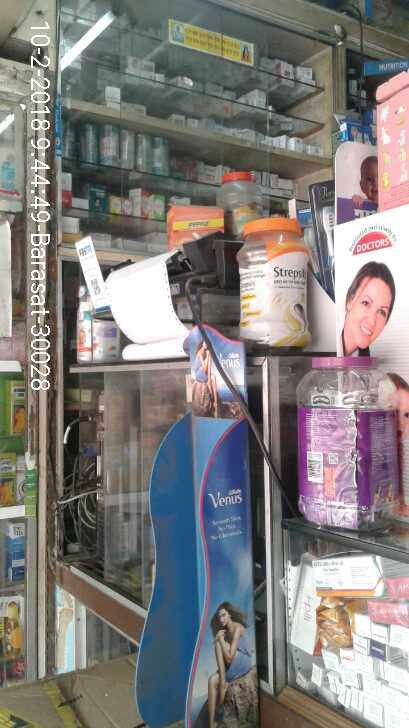reject: (173, 385, 263, 492)
